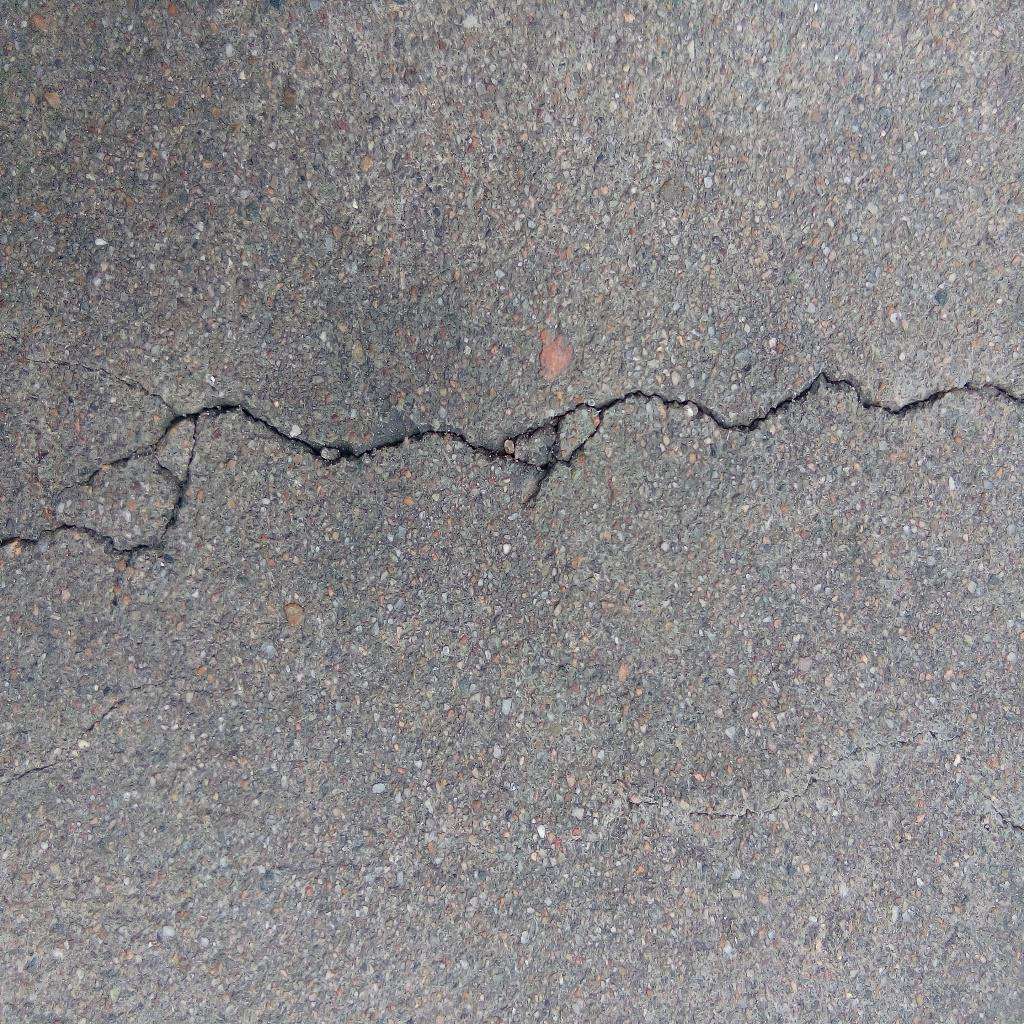Crack: (1, 369, 1024, 573)
